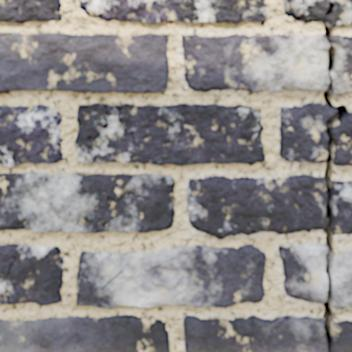brick: (77, 245, 265, 308), (75, 103, 264, 164), (0, 173, 174, 232), (0, 33, 168, 92), (0, 315, 168, 351), (80, 0, 266, 22), (0, 105, 63, 165), (0, 244, 63, 304), (0, 0, 61, 22), (0, 284, 6, 303)
broken_brick: (186, 173, 325, 240), (181, 33, 327, 92), (183, 314, 326, 351), (279, 102, 335, 163), (277, 243, 326, 303), (282, 0, 351, 28), (332, 34, 351, 94), (332, 250, 351, 310), (333, 180, 351, 235), (333, 111, 351, 166), (333, 319, 351, 351)
crack: (319, 1, 349, 351), (113, 105, 137, 146), (87, 104, 108, 148), (0, 254, 16, 304), (286, 87, 295, 90)
